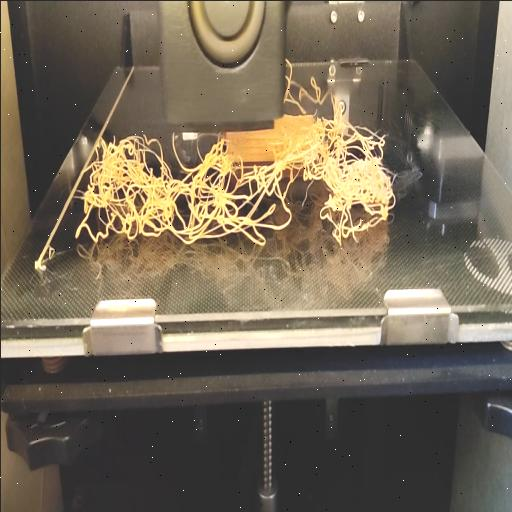spaghetti: (74, 132, 398, 242), (282, 54, 378, 134)
